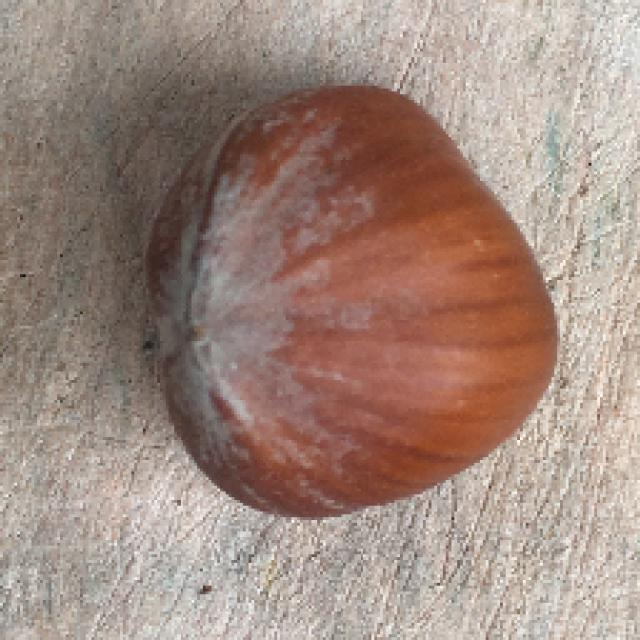qualityHazelnut: (126, 71, 562, 538)
